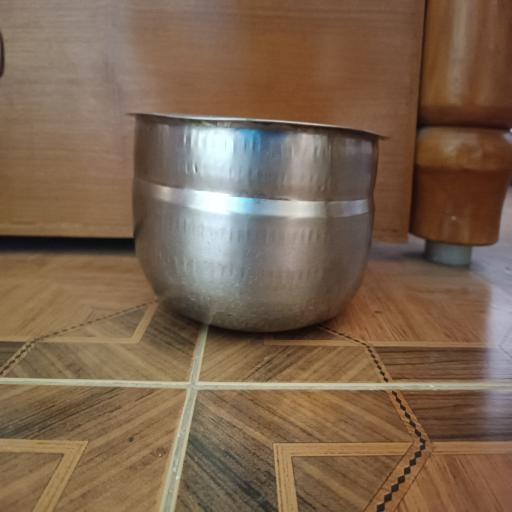vessel: (132, 113, 385, 332)
